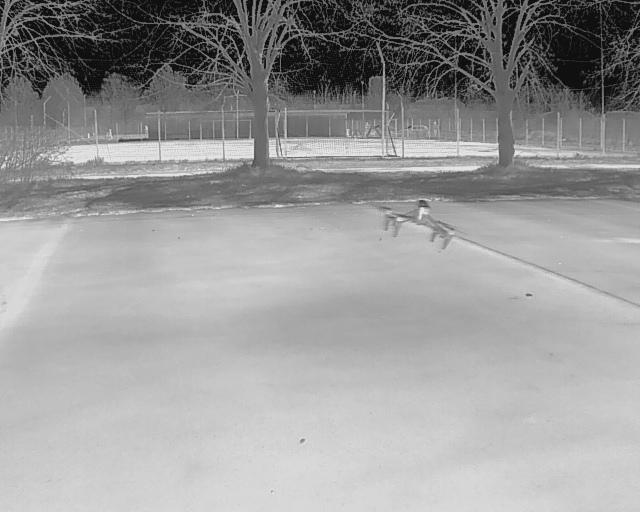drone: (367, 184, 472, 260)
